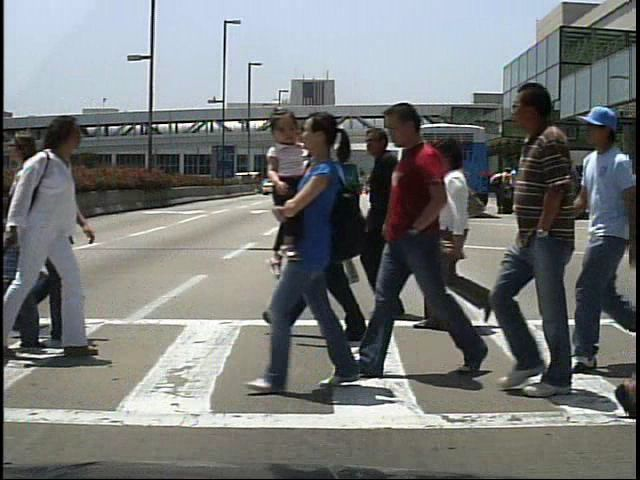person: (497, 84, 594, 411), (382, 98, 480, 373), (0, 113, 103, 364), (279, 121, 381, 347), (22, 111, 111, 335), (424, 138, 502, 339), (351, 130, 424, 322), (494, 164, 513, 217), (582, 168, 602, 218), (506, 166, 525, 215)
